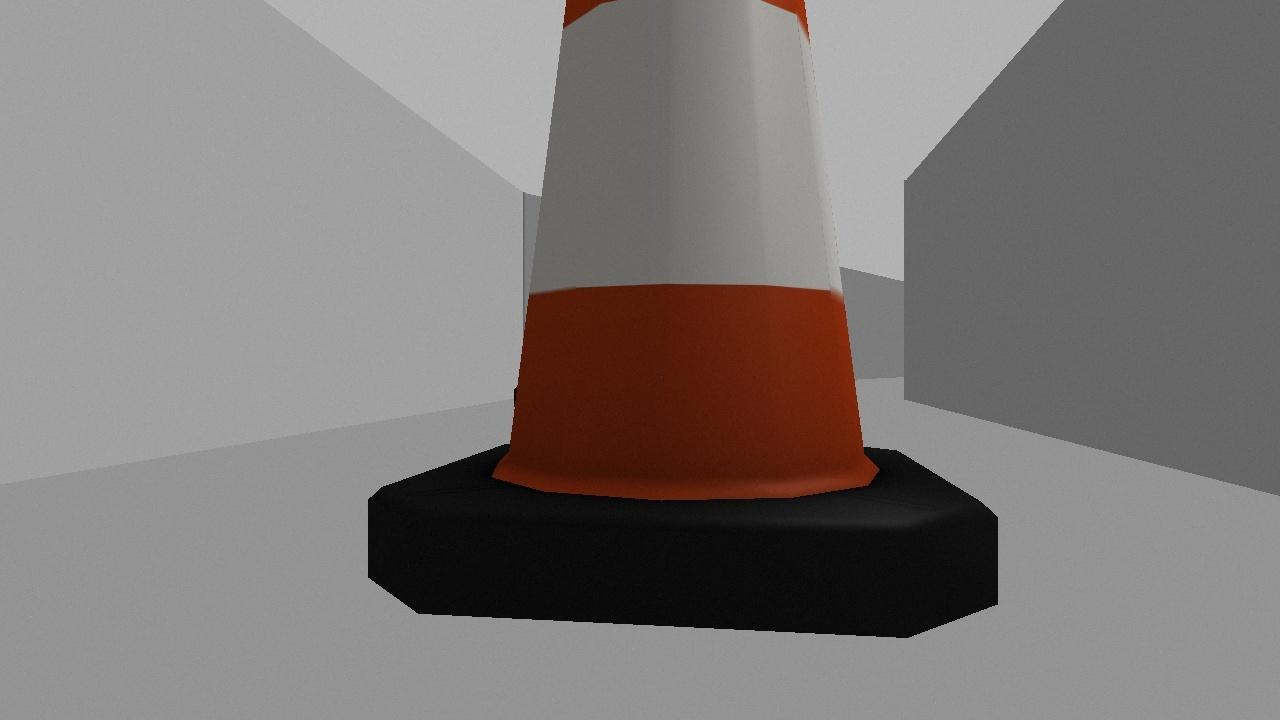cone_barrel: (368, 0, 996, 637)
